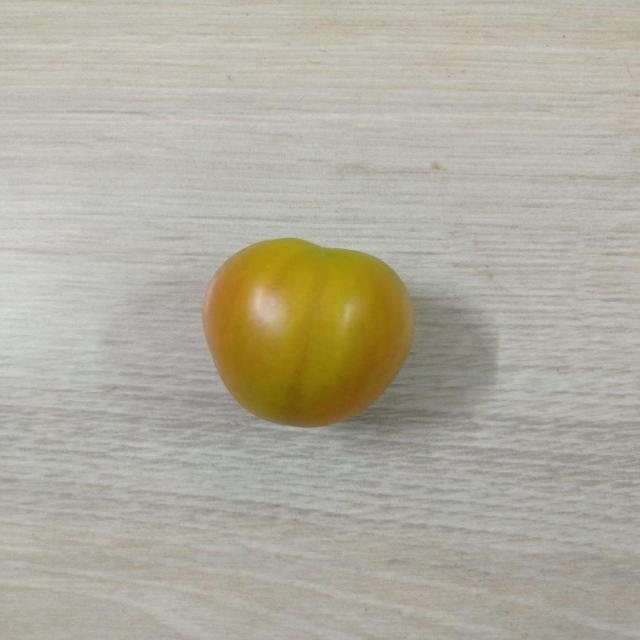Tomato: (204, 231, 418, 429)
